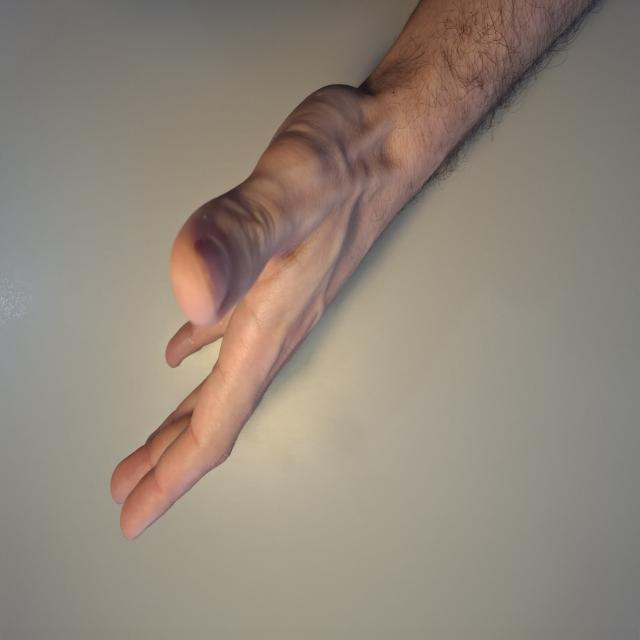glove_off: (107, 63, 404, 544)
